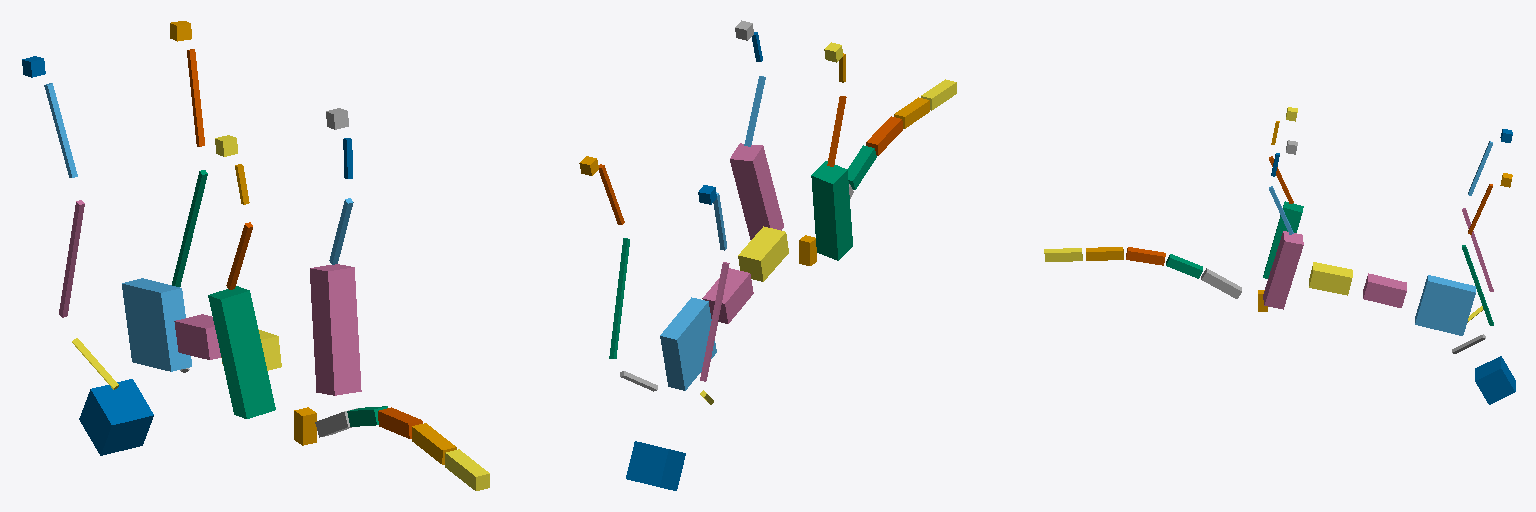
--- Facts derived from the render (not from the file) ---
3 views of the same robot in one strip: view 1: azimuth 30°, elevation 25°; view 2: azimuth 150°, elevation 25°; view 3: azimuth 270°, elevation 25° (orthographic).
Model Wolf_Skeleton with 76 links and 75 joints (75 revolute), rooted at base_link, posed all joints at 0.
Visible links, largest first — view 1: link_162_Oberschenkel_L_Y, link_167_Oberschenkel_R_Y, link_138_Brust_Y, link_139_Hals_Y, link_137_Bauch.001_Y, link_161_Schwanz.003_end_Y, link_148_Oberarm_L_Y, link_153_Oberarm_R_Y, link_160_Schwanz.003_Y, link_154_Unterarm_R_Y, link_149_Unterarm_L_Y, link_159_Schwanz.002_Y (+6 smaller); view 2: link_138_Brust_Y, link_167_Oberschenkel_R_Y, link_162_Oberschenkel_L_Y, link_139_Hals_Y, link_136_Bauch_Y, link_137_Bauch.001_Y, link_148_Oberarm_L_Y, link_153_Oberarm_R_Y, link_159_Schwanz.002_Y, link_158_Schwanz.001_Y, link_160_Schwanz.003_Y, link_161_Schwanz.003_end_Y; view 3: link_138_Brust_Y, link_162_Oberschenkel_L_Y, link_139_Hals_Y, link_137_Bauch.001_Y, link_136_Bauch_Y, link_167_Oberschenkel_R_Y, link_157_Schwanz_Y.
Link boxes in pixels (<box>): link_162_Oberschenkel_L_Y: <box>310,264,361,395</box>; link_167_Oberschenkel_R_Y: <box>208,286,275,418</box>; link_138_Brust_Y: <box>122,278,191,371</box>; link_139_Hals_Y: <box>79,379,153,455</box>; link_137_Bauch.001_Y: <box>174,314,220,359</box>; link_161_Schwanz.003_end_Y: <box>445,449,489,490</box>; link_148_Oberarm_L_Y: <box>172,170,207,286</box>; link_153_Oberarm_R_Y: <box>59,200,84,317</box>; link_160_Schwanz.003_Y: <box>412,423,456,464</box>; link_154_Unterarm_R_Y: <box>44,83,77,177</box>; link_149_Unterarm_L_Y: <box>187,49,204,146</box>; link_159_Schwanz.002_Y: <box>378,407,422,438</box>; link_138_Brust_Y: <box>660,297,716,390</box>; link_167_Oberschenkel_R_Y: <box>811,161,852,260</box>; link_162_Oberschenkel_L_Y: <box>730,143,783,239</box>; link_139_Hals_Y: <box>626,441,685,490</box>; link_136_Bauch_Y: <box>738,226,788,281</box>; link_137_Bauch.001_Y: <box>702,268,753,323</box>; link_148_Oberarm_L_Y: <box>609,238,629,358</box>; link_153_Oberarm_R_Y: <box>700,262,729,381</box>; link_159_Schwanz.002_Y: <box>866,116,902,155</box>; link_158_Schwanz.001_Y: <box>847,145,876,189</box>; link_160_Schwanz.003_Y: <box>894,97,929,128</box>; link_161_Schwanz.003_end_Y: <box>921,79,956,110</box>; link_138_Brust_Y: <box>1415,275,1475,335</box>; link_162_Oberschenkel_L_Y: <box>1263,231,1303,309</box>; link_139_Hals_Y: <box>1475,356,1515,404</box>; link_137_Bauch.001_Y: <box>1363,273,1406,307</box>; link_136_Bauch_Y: <box>1309,262,1352,295</box>; link_167_Oberschenkel_R_Y: <box>1263,201,1303,278</box>; link_157_Schwanz_Y: <box>1201,268,1241,298</box>.
Bounding box of the posed robot: 0.5763 × 2.35 × 1.51 m (x, y, z).
Geometry: primitives only (box / cylinder / sphere), no mesh files.

robot.urdf — Wolf_Skeleton:
<?xml version='1.0' encoding='UTF-8'?>
<robot name="Wolf_Skeleton">
  <link name="base_link">
    <inertial>
      <origin xyz="0.0 0.0 0.0" rpy="0.0 -0.0 0.0"/>
      <mass value="1.0"/>
      <inertia ixx="0.0" ixy="0.0" ixz="0.0" iyy="0.0" iyz="0.0" izz="0.0"/>
    </inertial>
    <visual>
      <geometry>
        <box size="0.05 0.05 0.1 "/>
      </geometry>
      <origin xyz="0.0 0.09264006279408932 0.0" rpy="0.0 0.0 0.0"/>
    </visual>
    <collision>
      <geometry>
        <box size="0.05 0.05 0.1 "/>
      </geometry>
      <origin xyz="0.0 0.09264006279408932 0.0" rpy="0.0 0.0 0.0"/>
    </collision>
  </link>
  <link name="link_136_Bauch_R">
    <inertial>
      <origin xyz="0.0 0.0 0.0" rpy="0.0 -0.0 0.0"/>
      <mass value="1.0"/>
      <inertia ixx="0.0" ixy="0.0" ixz="0.0" iyy="0.0" iyz="0.0" izz="0.0"/>
    </inertial>
    <collision name="collision">
      <geometry>
        <sphere radius="0.05"/>
      </geometry>
      <origin xyz="0.0 0.0 0.0" rpy="0.0 -0.0 0.0"/>
    </collision>
  </link>
  <link name="link_136_Bauch_P">
    <inertial>
      <origin xyz="0.0 0.0 0.0" rpy="0.0 -0.0 0.0"/>
      <mass value="1.0"/>
      <inertia ixx="0.0" ixy="0.0" ixz="0.0" iyy="0.0" iyz="0.0" izz="0.0"/>
    </inertial>
    <collision name="collision">
      <geometry>
        <sphere radius="0.05"/>
      </geometry>
      <origin xyz="0.0 0.0 0.0" rpy="0.0 -0.0 0.0"/>
    </collision>
  </link>
  <link name="link_136_Bauch_Y">
    <inertial>
      <origin xyz="0.0 0.0 0.0" rpy="0.0 -0.0 0.0"/>
      <mass value="1.0"/>
      <inertia ixx="0.0" ixy="0.0" ixz="0.0" iyy="0.0" iyz="0.0" izz="0.0"/>
    </inertial>
    <visual>
      <geometry>
        <box size="0.1 0.2 0.1"/>
      </geometry>
      <origin xyz="0.0 0.14605647996068002 0.25" rpy="0.0 0.0 0.0"/>
    </visual>
    <collision>
      <geometry>
        <box size="0.1 0.2 0.1"/>
      </geometry>
      <origin xyz="0.0 0.14605647996068002 0.25" rpy="0.0 0.0 0.0"/>
    </collision>
  </link>
  <link name="link_137_Bauch.001_R">
    <inertial>
      <origin xyz="0.0 0.0 0.0" rpy="0.0 -0.0 0.0"/>
      <mass value="1.0"/>
      <inertia ixx="0.0" ixy="0.0" ixz="0.0" iyy="0.0" iyz="0.0" izz="0.0"/>
    </inertial>
    <collision name="collision">
      <geometry>
        <sphere radius="0.05"/>
      </geometry>
      <origin xyz="0.0 0.0 0.0" rpy="0.0 -0.0 0.0"/>
    </collision>
  </link>
  <link name="link_137_Bauch.001_P">
    <inertial>
      <origin xyz="0.0 0.0 0.0" rpy="0.0 -0.0 0.0"/>
      <mass value="1.0"/>
      <inertia ixx="0.0" ixy="0.0" ixz="0.0" iyy="0.0" iyz="0.0" izz="0.0"/>
    </inertial>
    <collision name="collision">
      <geometry>
        <sphere radius="0.05"/>
      </geometry>
      <origin xyz="0.0 0.0 0.0" rpy="0.0 -0.0 0.0"/>
    </collision>
  </link>
  <link name="link_137_Bauch.001_Y">
    <inertial>
      <origin xyz="0.0 0.0 0.0" rpy="0.0 -0.0 0.0"/>
      <mass value="1.0"/>
      <inertia ixx="0.0" ixy="0.0" ixz="0.0" iyy="0.0" iyz="0.0" izz="0.0"/>
    </inertial>
    <visual>
      <geometry>
        <box size="0.1 0.2 0.1"/>
      </geometry>
      <origin xyz="0.0 0.14442766159772874 0.25" rpy="0.0 0.0 0.0"/>
    </visual>
    <collision>
      <geometry>
        <box size="0.1 0.2 0.1"/>
      </geometry>
      <origin xyz="0.0 0.14442766159772874 0.25" rpy="0.0 0.0 0.0"/>
    </collision>
  </link>
  <link name="link_138_Brust_R">
    <inertial>
      <origin xyz="0.0 0.0 0.0" rpy="0.0 -0.0 0.0"/>
      <mass value="1.0"/>
      <inertia ixx="0.0" ixy="0.0" ixz="0.0" iyy="0.0" iyz="0.0" izz="0.0"/>
    </inertial>
    <collision name="collision">
      <geometry>
        <sphere radius="0.05"/>
      </geometry>
      <origin xyz="0.0 0.0 0.0" rpy="0.0 -0.0 0.0"/>
    </collision>
  </link>
  <link name="link_138_Brust_P">
    <inertial>
      <origin xyz="0.0 0.0 0.0" rpy="0.0 -0.0 0.0"/>
      <mass value="1.0"/>
      <inertia ixx="0.0" ixy="0.0" ixz="0.0" iyy="0.0" iyz="0.0" izz="0.0"/>
    </inertial>
    <collision name="collision">
      <geometry>
        <sphere radius="0.05"/>
      </geometry>
      <origin xyz="0.0 0.0 0.0" rpy="0.0 -0.0 0.0"/>
    </collision>
  </link>
  <link name="link_138_Brust_Y">
    <inertial>
      <origin xyz="0.0 0.0 0.0" rpy="0.0 -0.0 0.0"/>
      <mass value="1.0"/>
      <inertia ixx="0.0" ixy="0.0" ixz="0.0" iyy="0.0" iyz="0.0" izz="0.0"/>
    </inertial>
    <visual>
      <geometry>
        <box size="0.075 0.25  0.25 "/>
      </geometry>
      <origin xyz="0.0 0.18977209478616713 0.25" rpy="0.0 0.0 0.0"/>
    </visual>
    <collision>
      <geometry>
        <box size="0.075 0.25  0.25 "/>
      </geometry>
      <origin xyz="0.0 0.18977209478616713 0.25" rpy="0.0 0.0 0.0"/>
    </collision>
  </link>
  <link name="link_139_Hals_R">
    <inertial>
      <origin xyz="0.0 0.0 0.0" rpy="0.0 -0.0 0.0"/>
      <mass value="1.0"/>
      <inertia ixx="0.0" ixy="0.0" ixz="0.0" iyy="0.0" iyz="0.0" izz="0.0"/>
    </inertial>
    <collision name="collision">
      <geometry>
        <sphere radius="0.05"/>
      </geometry>
      <origin xyz="0.0 0.0 0.0" rpy="0.0 -0.0 0.0"/>
    </collision>
  </link>
  <link name="link_139_Hals_P">
    <inertial>
      <origin xyz="0.0 0.0 0.0" rpy="0.0 -0.0 0.0"/>
      <mass value="1.0"/>
      <inertia ixx="0.0" ixy="0.0" ixz="0.0" iyy="0.0" iyz="0.0" izz="0.0"/>
    </inertial>
    <collision name="collision">
      <geometry>
        <sphere radius="0.05"/>
      </geometry>
      <origin xyz="0.0 0.0 0.0" rpy="0.0 -0.0 0.0"/>
    </collision>
  </link>
  <link name="link_139_Hals_Y">
    <inertial>
      <origin xyz="0.0 0.0 0.0" rpy="0.0 -0.0 0.0"/>
      <mass value="1.0"/>
      <inertia ixx="0.0" ixy="0.0" ixz="0.0" iyy="0.0" iyz="0.0" izz="0.0"/>
    </inertial>
    <visual>
      <geometry>
        <box size="0.15 0.15 0.15"/>
      </geometry>
      <origin xyz="0.0 0.325 0.0" rpy="0.0 0.0 0.0"/>
    </visual>
    <collision>
      <geometry>
        <box size="0.15 0.15 0.15"/>
      </geometry>
      <origin xyz="0.0 0.325 0.0" rpy="0.0 0.0 0.0"/>
    </collision>
  </link>
  <link name="link_147_Schalterplatte_L_R">
    <inertial>
      <origin xyz="0.0 0.0 0.0" rpy="0.0 -0.0 0.0"/>
      <mass value="1.0"/>
      <inertia ixx="0.0" ixy="0.0" ixz="0.0" iyy="0.0" iyz="0.0" izz="0.0"/>
    </inertial>
    <collision name="collision">
      <geometry>
        <sphere radius="0.05"/>
      </geometry>
      <origin xyz="0.0 0.0 0.0" rpy="0.0 -0.0 0.0"/>
    </collision>
  </link>
  <link name="link_147_Schalterplatte_L_P">
    <inertial>
      <origin xyz="0.0 0.0 0.0" rpy="0.0 -0.0 0.0"/>
      <mass value="1.0"/>
      <inertia ixx="0.0" ixy="0.0" ixz="0.0" iyy="0.0" iyz="0.0" izz="0.0"/>
    </inertial>
    <collision name="collision">
      <geometry>
        <sphere radius="0.05"/>
      </geometry>
      <origin xyz="0.0 0.0 0.0" rpy="0.0 -0.0 0.0"/>
    </collision>
  </link>
  <link name="link_147_Schalterplatte_L_Y">
    <inertial>
      <origin xyz="0.0 0.0 0.0" rpy="0.0 -0.0 0.0"/>
      <mass value="1.0"/>
      <inertia ixx="0.0" ixy="0.0" ixz="0.0" iyy="0.0" iyz="0.0" izz="0.0"/>
    </inertial>
    <visual>
      <geometry>
        <box size="0.02 0.2  0.02"/>
      </geometry>
      <origin xyz="0.0 0.19151573851704598 0.0" rpy="0.0 0.0 0.0"/>
    </visual>
    <collision>
      <geometry>
        <box size="0.02 0.2  0.02"/>
      </geometry>
      <origin xyz="0.0 0.19151573851704598 0.0" rpy="0.0 0.0 0.0"/>
    </collision>
  </link>
  <link name="link_148_Oberarm_L_R">
    <inertial>
      <origin xyz="0.0 0.0 0.0" rpy="0.0 -0.0 0.0"/>
      <mass value="1.0"/>
      <inertia ixx="0.0" ixy="0.0" ixz="0.0" iyy="0.0" iyz="0.0" izz="0.0"/>
    </inertial>
    <collision name="collision">
      <geometry>
        <sphere radius="0.05"/>
      </geometry>
      <origin xyz="0.0 0.0 0.0" rpy="0.0 -0.0 0.0"/>
    </collision>
  </link>
  <link name="link_148_Oberarm_L_P">
    <inertial>
      <origin xyz="0.0 0.0 0.0" rpy="0.0 -0.0 0.0"/>
      <mass value="1.0"/>
      <inertia ixx="0.0" ixy="0.0" ixz="0.0" iyy="0.0" iyz="0.0" izz="0.0"/>
    </inertial>
    <collision name="collision">
      <geometry>
        <sphere radius="0.05"/>
      </geometry>
      <origin xyz="0.0 0.0 0.0" rpy="0.0 -0.0 0.0"/>
    </collision>
  </link>
  <link name="link_148_Oberarm_L_Y">
    <inertial>
      <origin xyz="0.0 0.0 0.0" rpy="0.0 -0.0 0.0"/>
      <mass value="1.0"/>
      <inertia ixx="0.0" ixy="0.0" ixz="0.0" iyy="0.0" iyz="0.0" izz="0.0"/>
    </inertial>
    <visual>
      <geometry>
        <box size="0.02     0.4664934 0.02    "/>
      </geometry>
      <origin xyz="0.0 0.27381134927272793 0.0" rpy="0.0 0.0 0.0"/>
    </visual>
    <collision>
      <geometry>
        <box size="0.02     0.4664934 0.02    "/>
      </geometry>
      <origin xyz="0.0 0.27381134927272793 0.0" rpy="0.0 0.0 0.0"/>
    </collision>
  </link>
  <link name="link_149_Unterarm_L_R">
    <inertial>
      <origin xyz="0.0 0.0 0.0" rpy="0.0 -0.0 0.0"/>
      <mass value="1.0"/>
      <inertia ixx="0.0" ixy="0.0" ixz="0.0" iyy="0.0" iyz="0.0" izz="0.0"/>
    </inertial>
    <collision name="collision">
      <geometry>
        <sphere radius="0.05"/>
      </geometry>
      <origin xyz="0.0 0.0 0.0" rpy="0.0 -0.0 0.0"/>
    </collision>
  </link>
  <link name="link_149_Unterarm_L_P">
    <inertial>
      <origin xyz="0.0 0.0 0.0" rpy="0.0 -0.0 0.0"/>
      <mass value="1.0"/>
      <inertia ixx="0.0" ixy="0.0" ixz="0.0" iyy="0.0" iyz="0.0" izz="0.0"/>
    </inertial>
    <collision name="collision">
      <geometry>
        <sphere radius="0.05"/>
      </geometry>
      <origin xyz="0.0 0.0 0.0" rpy="0.0 -0.0 0.0"/>
    </collision>
  </link>
  <link name="link_149_Unterarm_L_Y">
    <inertial>
      <origin xyz="0.0 0.0 0.0" rpy="0.0 -0.0 0.0"/>
      <mass value="1.0"/>
      <inertia ixx="0.0" ixy="0.0" ixz="0.0" iyy="0.0" iyz="0.0" izz="0.0"/>
    </inertial>
    <visual>
      <geometry>
        <box size="0.02 0.3   0.02"/>
      </geometry>
      <origin xyz="0.0 0.23030291497707367 0.0" rpy="0.0 0.0 0.0"/>
    </visual>
    <collision>
      <geometry>
        <box size="0.02 0.3   0.02"/>
      </geometry>
      <origin xyz="0.0 0.23030291497707367 0.0" rpy="0.0 0.0 0.0"/>
    </collision>
  </link>
  <link name="link_150_Vorderpfote_L_R">
    <inertial>
      <origin xyz="0.0 0.0 0.0" rpy="0.0 -0.0 0.0"/>
      <mass value="1.0"/>
      <inertia ixx="0.0" ixy="0.0" ixz="0.0" iyy="0.0" iyz="0.0" izz="0.0"/>
    </inertial>
    <collision name="collision">
      <geometry>
        <sphere radius="0.05"/>
      </geometry>
      <origin xyz="0.0 0.0 0.0" rpy="0.0 -0.0 0.0"/>
    </collision>
  </link>
  <link name="link_150_Vorderpfote_L_P">
    <inertial>
      <origin xyz="0.0 0.0 0.0" rpy="0.0 -0.0 0.0"/>
      <mass value="1.0"/>
      <inertia ixx="0.0" ixy="0.0" ixz="0.0" iyy="0.0" iyz="0.0" izz="0.0"/>
    </inertial>
    <collision name="collision">
      <geometry>
        <sphere radius="0.05"/>
      </geometry>
      <origin xyz="0.0 0.0 0.0" rpy="0.0 -0.0 0.0"/>
    </collision>
  </link>
  <link name="link_150_Vorderpfote_L_Y">
    <inertial>
      <origin xyz="0.0 0.0 0.0" rpy="0.0 -0.0 0.0"/>
      <mass value="1.0"/>
      <inertia ixx="0.0" ixy="0.0" ixz="0.0" iyy="0.0" iyz="0.0" izz="0.0"/>
    </inertial>
    <visual>
      <geometry>
        <box size="0.05 0.05  0.05 "/>
      </geometry>
      <origin xyz="0.0 0.06079862918704748 0.0" rpy="0.0 0.0 0.0"/>
    </visual>
    <collision>
      <geometry>
        <box size="0.05 0.05  0.05 "/>
      </geometry>
      <origin xyz="0.0 0.06079862918704748 0.0" rpy="0.0 0.0 0.0"/>
    </collision>
  </link>
  <link name="link_152_Schalterplatte_R_R">
    <inertial>
      <origin xyz="0.0 0.0 0.0" rpy="0.0 -0.0 0.0"/>
      <mass value="1.0"/>
      <inertia ixx="0.0" ixy="0.0" ixz="0.0" iyy="0.0" iyz="0.0" izz="0.0"/>
    </inertial>
    <collision name="collision">
      <geometry>
        <sphere radius="0.05"/>
      </geometry>
      <origin xyz="0.0 0.0 0.0" rpy="0.0 -0.0 0.0"/>
    </collision>
  </link>
  <link name="link_152_Schalterplatte_R_P">
    <inertial>
      <origin xyz="0.0 0.0 0.0" rpy="0.0 -0.0 0.0"/>
      <mass value="1.0"/>
      <inertia ixx="0.0" ixy="0.0" ixz="0.0" iyy="0.0" iyz="0.0" izz="0.0"/>
    </inertial>
    <collision name="collision">
      <geometry>
        <sphere radius="0.05"/>
      </geometry>
      <origin xyz="0.0 0.0 0.0" rpy="0.0 -0.0 0.0"/>
    </collision>
  </link>
  <link name="link_152_Schalterplatte_R_Y">
    <inertial>
      <origin xyz="0.0 0.0 0.0" rpy="0.0 -0.0 0.0"/>
      <mass value="1.0"/>
      <inertia ixx="0.0" ixy="0.0" ixz="0.0" iyy="0.0" iyz="0.0" izz="0.0"/>
    </inertial>
    <visual>
      <geometry>
        <box size="0.02 0.2  0.02"/>
      </geometry>
      <origin xyz="0.0 0.19151571840047837 0.0" rpy="0.0 0.0 0.0"/>
    </visual>
    <collision>
      <geometry>
        <box size="0.02 0.2  0.02"/>
      </geometry>
      <origin xyz="0.0 0.19151571840047837 0.0" rpy="0.0 0.0 0.0"/>
    </collision>
  </link>
  <link name="link_153_Oberarm_R_R">
    <inertial>
      <origin xyz="0.0 0.0 0.0" rpy="0.0 -0.0 0.0"/>
      <mass value="1.0"/>
      <inertia ixx="0.0" ixy="0.0" ixz="0.0" iyy="0.0" iyz="0.0" izz="0.0"/>
    </inertial>
    <collision name="collision">
      <geometry>
        <sphere radius="0.05"/>
      </geometry>
      <origin xyz="0.0 0.0 0.0" rpy="0.0 -0.0 0.0"/>
    </collision>
  </link>
  <link name="link_153_Oberarm_R_P">
    <inertial>
      <origin xyz="0.0 0.0 0.0" rpy="0.0 -0.0 0.0"/>
      <mass value="1.0"/>
      <inertia ixx="0.0" ixy="0.0" ixz="0.0" iyy="0.0" iyz="0.0" izz="0.0"/>
    </inertial>
    <collision name="collision">
      <geometry>
        <sphere radius="0.05"/>
      </geometry>
      <origin xyz="0.0 0.0 0.0" rpy="0.0 -0.0 0.0"/>
    </collision>
  </link>
  <link name="link_153_Oberarm_R_Y">
    <inertial>
      <origin xyz="0.0 0.0 0.0" rpy="0.0 -0.0 0.0"/>
      <mass value="1.0"/>
      <inertia ixx="0.0" ixy="0.0" ixz="0.0" iyy="0.0" iyz="0.0" izz="0.0"/>
    </inertial>
    <visual>
      <geometry>
        <box size="0.02     0.4664934 0.02    "/>
      </geometry>
      <origin xyz="0.0 0.2738114699721336 0.0" rpy="0.0 0.0 0.0"/>
    </visual>
    <collision>
      <geometry>
        <box size="0.02     0.4664934 0.02    "/>
      </geometry>
      <origin xyz="0.0 0.2738114699721336 0.0" rpy="0.0 0.0 0.0"/>
    </collision>
  </link>
  <link name="link_154_Unterarm_R_R">
    <inertial>
      <origin xyz="0.0 0.0 0.0" rpy="0.0 -0.0 0.0"/>
      <mass value="1.0"/>
      <inertia ixx="0.0" ixy="0.0" ixz="0.0" iyy="0.0" iyz="0.0" izz="0.0"/>
    </inertial>
    <collision name="collision">
      <geometry>
        <sphere radius="0.05"/>
      </geometry>
      <origin xyz="0.0 0.0 0.0" rpy="0.0 -0.0 0.0"/>
    </collision>
  </link>
  <link name="link_154_Unterarm_R_P">
    <inertial>
      <origin xyz="0.0 0.0 0.0" rpy="0.0 -0.0 0.0"/>
      <mass value="1.0"/>
      <inertia ixx="0.0" ixy="0.0" ixz="0.0" iyy="0.0" iyz="0.0" izz="0.0"/>
    </inertial>
    <collision name="collision">
      <geometry>
        <sphere radius="0.05"/>
      </geometry>
      <origin xyz="0.0 0.0 0.0" rpy="0.0 -0.0 0.0"/>
    </collision>
  </link>
  <link name="link_154_Unterarm_R_Y">
    <inertial>
      <origin xyz="0.0 0.0 0.0" rpy="0.0 -0.0 0.0"/>
      <mass value="1.0"/>
      <inertia ixx="0.0" ixy="0.0" ixz="0.0" iyy="0.0" iyz="0.0" izz="0.0"/>
    </inertial>
    <visual>
      <geometry>
        <box size="0.02 0.3   0.02"/>
      </geometry>
      <origin xyz="0.0 0.23030166774988176 0.0" rpy="0.0 0.0 0.0"/>
    </visual>
    <collision>
      <geometry>
        <box size="0.02 0.3   0.02"/>
      </geometry>
      <origin xyz="0.0 0.23030166774988176 0.0" rpy="0.0 0.0 0.0"/>
    </collision>
  </link>
  <link name="link_155_Vorderpfote_R_R">
    <inertial>
      <origin xyz="0.0 0.0 0.0" rpy="0.0 -0.0 0.0"/>
      <mass value="1.0"/>
      <inertia ixx="0.0" ixy="0.0" ixz="0.0" iyy="0.0" iyz="0.0" izz="0.0"/>
    </inertial>
    <collision name="collision">
      <geometry>
        <sphere radius="0.05"/>
      </geometry>
      <origin xyz="0.0 0.0 0.0" rpy="0.0 -0.0 0.0"/>
    </collision>
  </link>
  <link name="link_155_Vorderpfote_R_P">
    <inertial>
      <origin xyz="0.0 0.0 0.0" rpy="0.0 -0.0 0.0"/>
      <mass value="1.0"/>
      <inertia ixx="0.0" ixy="0.0" ixz="0.0" iyy="0.0" iyz="0.0" izz="0.0"/>
    </inertial>
    <collision name="collision">
      <geometry>
        <sphere radius="0.05"/>
      </geometry>
      <origin xyz="0.0 0.0 0.0" rpy="0.0 -0.0 0.0"/>
    </collision>
  </link>
  <link name="link_155_Vorderpfote_R_Y">
    <inertial>
      <origin xyz="0.0 0.0 0.0" rpy="0.0 -0.0 0.0"/>
      <mass value="1.0"/>
      <inertia ixx="0.0" ixy="0.0" ixz="0.0" iyy="0.0" iyz="0.0" izz="0.0"/>
    </inertial>
    <visual>
      <geometry>
        <box size="0.05 0.05  0.05 "/>
      </geometry>
      <origin xyz="0.0 0.060800012201070786 0.0" rpy="0.0 0.0 0.0"/>
    </visual>
    <collision>
      <geometry>
        <box size="0.05 0.05  0.05 "/>
      </geometry>
      <origin xyz="0.0 0.060800012201070786 0.0" rpy="0.0 0.0 0.0"/>
    </collision>
  </link>
  <link name="link_157_Schwanz_R">
    <inertial>
      <origin xyz="0.0 0.0 0.0" rpy="0.0 -0.0 0.0"/>
      <mass value="1.0"/>
      <inertia ixx="0.0" ixy="0.0" ixz="0.0" iyy="0.0" iyz="0.0" izz="0.0"/>
    </inertial>
    <collision name="collision">
      <geometry>
        <sphere radius="0.05"/>
      </geometry>
      <origin xyz="0.0 0.0 0.0" rpy="0.0 -0.0 0.0"/>
    </collision>
  </link>
  <link name="link_157_Schwanz_P">
    <inertial>
      <origin xyz="0.0 0.0 0.0" rpy="0.0 -0.0 0.0"/>
      <mass value="1.0"/>
      <inertia ixx="0.0" ixy="0.0" ixz="0.0" iyy="0.0" iyz="0.0" izz="0.0"/>
    </inertial>
    <collision name="collision">
      <geometry>
        <sphere radius="0.05"/>
      </geometry>
      <origin xyz="0.0 0.0 0.0" rpy="0.0 -0.0 0.0"/>
    </collision>
  </link>
  <link name="link_157_Schwanz_Y">
    <inertial>
      <origin xyz="0.0 0.0 0.0" rpy="0.0 -0.0 0.0"/>
      <mass value="1.0"/>
      <inertia ixx="0.0" ixy="0.0" ixz="0.0" iyy="0.0" iyz="0.0" izz="0.0"/>
    </inertial>
    <visual>
      <geometry>
        <box size="0.05       0.20939873 0.05      "/>
      </geometry>
      <origin xyz="0.0 0.1229079432785511 0.0" rpy="0.0 0.0 0.0"/>
    </visual>
    <collision>
      <geometry>
        <box size="0.05       0.20939873 0.05      "/>
      </geometry>
      <origin xyz="0.0 0.1229079432785511 0.0" rpy="0.0 0.0 0.0"/>
    </collision>
  </link>
  <link name="link_158_Schwanz.001_R">
    <inertial>
      <origin xyz="0.0 0.0 0.0" rpy="0.0 -0.0 0.0"/>
      <mass value="1.0"/>
      <inertia ixx="0.0" ixy="0.0" ixz="0.0" iyy="0.0" iyz="0.0" izz="0.0"/>
    </inertial>
    <collision name="collision">
      <geometry>
        <sphere radius="0.05"/>
      </geometry>
      <origin xyz="0.0 0.0 0.0" rpy="0.0 -0.0 0.0"/>
    </collision>
  </link>
  <link name="link_158_Schwanz.001_P">
    <inertial>
      <origin xyz="0.0 0.0 0.0" rpy="0.0 -0.0 0.0"/>
      <mass value="1.0"/>
      <inertia ixx="0.0" ixy="0.0" ixz="0.0" iyy="0.0" iyz="0.0" izz="0.0"/>
    </inertial>
    <collision name="collision">
      <geometry>
        <sphere radius="0.05"/>
      </geometry>
      <origin xyz="0.0 0.0 0.0" rpy="0.0 -0.0 0.0"/>
    </collision>
  </link>
  <link name="link_158_Schwanz.001_Y">
    <inertial>
      <origin xyz="0.0 0.0 0.0" rpy="0.0 -0.0 0.0"/>
      <mass value="1.0"/>
      <inertia ixx="0.0" ixy="0.0" ixz="0.0" iyy="0.0" iyz="0.0" izz="0.0"/>
    </inertial>
    <visual>
      <geometry>
        <box size="0.05       0.18068102 0.05      "/>
      </geometry>
      <origin xyz="0.0 0.1060519091784954 0.0" rpy="0.0 0.0 0.0"/>
    </visual>
    <collision>
      <geometry>
        <box size="0.05       0.18068102 0.05      "/>
      </geometry>
      <origin xyz="0.0 0.1060519091784954 0.0" rpy="0.0 0.0 0.0"/>
    </collision>
  </link>
  <link name="link_159_Schwanz.002_R">
    <inertial>
      <origin xyz="0.0 0.0 0.0" rpy="0.0 -0.0 0.0"/>
      <mass value="1.0"/>
      <inertia ixx="0.0" ixy="0.0" ixz="0.0" iyy="0.0" iyz="0.0" izz="0.0"/>
    </inertial>
    <collision name="collision">
      <geometry>
        <sphere radius="0.05"/>
      </geometry>
      <origin xyz="0.0 0.0 0.0" rpy="0.0 -0.0 0.0"/>
    </collision>
  </link>
  <link name="link_159_Schwanz.002_P">
    <inertial>
      <origin xyz="0.0 0.0 0.0" rpy="0.0 -0.0 0.0"/>
      <mass value="1.0"/>
      <inertia ixx="0.0" ixy="0.0" ixz="0.0" iyy="0.0" iyz="0.0" izz="0.0"/>
    </inertial>
    <collision name="collision">
      <geometry>
        <sphere radius="0.05"/>
      </geometry>
      <origin xyz="0.0 0.0 0.0" rpy="0.0 -0.0 0.0"/>
    </collision>
  </link>
  <link name="link_159_Schwanz.002_Y">
    <inertial>
      <origin xyz="0.0 0.0 0.0" rpy="0.0 -0.0 0.0"/>
      <mass value="1.0"/>
      <inertia ixx="0.0" ixy="0.0" ixz="0.0" iyy="0.0" iyz="0.0" izz="0.0"/>
    </inertial>
    <visual>
      <geometry>
        <box size="0.05       0.19205777 0.05      "/>
      </geometry>
      <origin xyz="0.0 0.11272956356406212 0.0" rpy="0.0 0.0 0.0"/>
    </visual>
    <collision>
      <geometry>
        <box size="0.05       0.19205777 0.05      "/>
      </geometry>
      <origin xyz="0.0 0.11272956356406212 0.0" rpy="0.0 0.0 0.0"/>
    </collision>
  </link>
  <link name="link_160_Schwanz.003_R">
    <inertial>
      <origin xyz="0.0 0.0 0.0" rpy="0.0 -0.0 0.0"/>
      <mass value="1.0"/>
      <inertia ixx="0.0" ixy="0.0" ixz="0.0" iyy="0.0" iyz="0.0" izz="0.0"/>
    </inertial>
    <collision name="collision">
      <geometry>
        <sphere radius="0.05"/>
      </geometry>
      <origin xyz="0.0 0.0 0.0" rpy="0.0 -0.0 0.0"/>
    </collision>
  </link>
  <link name="link_160_Schwanz.003_P">
    <inertial>
      <origin xyz="0.0 0.0 0.0" rpy="0.0 -0.0 0.0"/>
      <mass value="1.0"/>
      <inertia ixx="0.0" ixy="0.0" ixz="0.0" iyy="0.0" iyz="0.0" izz="0.0"/>
    </inertial>
    <collision name="collision">
      <geometry>
        <sphere radius="0.05"/>
      </geometry>
      <origin xyz="0.0 0.0 0.0" rpy="0.0 -0.0 0.0"/>
    </collision>
  </link>
  <link name="link_160_Schwanz.003_Y">
    <inertial>
      <origin xyz="0.0 0.0 0.0" rpy="0.0 -0.0 0.0"/>
      <mass value="1.0"/>
      <inertia ixx="0.0" ixy="0.0" ixz="0.0" iyy="0.0" iyz="0.0" izz="0.0"/>
    </inertial>
    <visual>
      <geometry>
        <box size="0.05       0.18915927 0.05      "/>
      </geometry>
      <origin xyz="0.0 0.1110282652080059 0.0" rpy="0.0 0.0 0.0"/>
    </visual>
    <collision>
      <geometry>
        <box size="0.05       0.18915927 0.05      "/>
      </geometry>
      <origin xyz="0.0 0.1110282652080059 0.0" rpy="0.0 0.0 0.0"/>
    </collision>
  </link>
  <link name="link_161_Schwanz.003_end_R">
    <inertial>
      <origin xyz="0.0 0.0 0.0" rpy="0.0 -0.0 0.0"/>
      <mass value="1.0"/>
      <inertia ixx="0.0" ixy="0.0" ixz="0.0" iyy="0.0" iyz="0.0" izz="0.0"/>
    </inertial>
    <collision name="collision">
      <geometry>
        <sphere radius="0.05"/>
      </geometry>
      <origin xyz="0.0 0.0 0.0" rpy="0.0 -0.0 0.0"/>
    </collision>
  </link>
  <link name="link_161_Schwanz.003_end_P">
    <inertial>
      <origin xyz="0.0 0.0 0.0" rpy="0.0 -0.0 0.0"/>
      <mass value="1.0"/>
      <inertia ixx="0.0" ixy="0.0" ixz="0.0" iyy="0.0" iyz="0.0" izz="0.0"/>
    </inertial>
    <collision name="collision">
      <geometry>
        <sphere radius="0.05"/>
      </geometry>
      <origin xyz="0.0 0.0 0.0" rpy="0.0 -0.0 0.0"/>
    </collision>
  </link>
  <link name="link_161_Schwanz.003_end_Y">
    <inertial>
      <origin xyz="0.0 0.0 0.0" rpy="0.0 -0.0 0.0"/>
      <mass value="1.0"/>
      <inertia ixx="0.0" ixy="0.0" ixz="0.0" iyy="0.0" iyz="0.0" izz="0.0"/>
    </inertial>
    <visual>
      <geometry>
        <box size="0.05      0.1891589 0.05     "/>
      </geometry>
      <origin xyz="0.0 0.11102805398404597 0.0" rpy="0.0 0.0 0.0"/>
    </visual>
    <collision>
      <geometry>
        <box size="0.05      0.1891589 0.05     "/>
      </geometry>
      <origin xyz="0.0 0.11102805398404597 0.0" rpy="0.0 0.0 0.0"/>
    </collision>
  </link>
  <link name="link_162_Oberschenkel_L_R">
    <inertial>
      <origin xyz="0.0 0.0 0.0" rpy="0.0 -0.0 0.0"/>
      <mass value="1.0"/>
      <inertia ixx="0.0" ixy="0.0" ixz="0.0" iyy="0.0" iyz="0.0" izz="0.0"/>
    </inertial>
    <collision name="collision">
      <geometry>
        <sphere radius="0.05"/>
      </geometry>
      <origin xyz="0.0 0.0 0.0" rpy="0.0 -0.0 0.0"/>
    </collision>
  </link>
  <link name="link_162_Oberschenkel_L_P">
    <inertial>
      <origin xyz="0.0 0.0 0.0" rpy="0.0 -0.0 0.0"/>
      <mass value="1.0"/>
      <inertia ixx="0.0" ixy="0.0" ixz="0.0" iyy="0.0" iyz="0.0" izz="0.0"/>
    </inertial>
    <collision name="collision">
      <geometry>
        <sphere radius="0.05"/>
      </geometry>
      <origin xyz="0.0 0.0 0.0" rpy="0.0 -0.0 0.0"/>
    </collision>
  </link>
  <link name="link_162_Oberschenkel_L_Y">
    <inertial>
      <origin xyz="0.0 0.0 0.0" rpy="0.0 -0.0 0.0"/>
      <mass value="1.0"/>
      <inertia ixx="0.0" ixy="0.0" ixz="0.0" iyy="0.0" iyz="0.0" izz="0.0"/>
    </inertial>
    <visual>
      <geometry>
        <box size="0.1        0.38788143 0.1       "/>
      </geometry>
      <origin xyz="0.0 0.2276695355772972 0.0" rpy="0.0 0.0 0.0"/>
    </visual>
    <collision>
      <geometry>
        <box size="0.1        0.38788143 0.1       "/>
      </geometry>
      <origin xyz="0.0 0.2276695355772972 0.0" rpy="0.0 0.0 0.0"/>
    </collision>
  </link>
  <link name="link_163_Unterschenkel_L_R">
    <inertial>
      <origin xyz="0.0 0.0 0.0" rpy="0.0 -0.0 0.0"/>
      <mass value="1.0"/>
      <inertia ixx="0.0" ixy="0.0" ixz="0.0" iyy="0.0" iyz="0.0" izz="0.0"/>
    </inertial>
    <collision name="collision">
      <geometry>
        <sphere radius="0.05"/>
      </geometry>
      <origin xyz="0.0 0.0 0.0" rpy="0.0 -0.0 0.0"/>
    </collision>
  </link>
  <link name="link_163_Unterschenkel_L_P">
    <inertial>
      <origin xyz="0.0 0.0 0.0" rpy="0.0 -0.0 0.0"/>
      <mass value="1.0"/>
      <inertia ixx="0.0" ixy="0.0" ixz="0.0" iyy="0.0" iyz="0.0" izz="0.0"/>
    </inertial>
    <collision name="collision">
      <geometry>
        <sphere radius="0.05"/>
      </geometry>
      <origin xyz="0.0 0.0 0.0" rpy="0.0 -0.0 0.0"/>
    </collision>
  </link>
  <link name="link_163_Unterschenkel_L_Y">
    <inertial>
      <origin xyz="0.0 0.0 0.0" rpy="0.0 -0.0 0.0"/>
      <mass value="1.0"/>
      <inertia ixx="0.0" ixy="0.0" ixz="0.0" iyy="0.0" iyz="0.0" izz="0.0"/>
    </inertial>
    <visual>
      <geometry>
        <box size="0.02       0.2739076 0.02      "/>
      </geometry>
      <origin xyz="0.0 0.1607718497514725 0.0" rpy="0.0 0.0 0.0"/>
    </visual>
    <collision>
      <geometry>
        <box size="0.02       0.2739076 0.02      "/>
      </geometry>
      <origin xyz="0.0 0.1607718497514725 0.0" rpy="0.0 0.0 0.0"/>
    </collision>
  </link>
  <link name="link_164_Pfote1_L_R">
    <inertial>
      <origin xyz="0.0 0.0 0.0" rpy="0.0 -0.0 0.0"/>
      <mass value="1.0"/>
      <inertia ixx="0.0" ixy="0.0" ixz="0.0" iyy="0.0" iyz="0.0" izz="0.0"/>
    </inertial>
    <collision name="collision">
      <geometry>
        <sphere radius="0.05"/>
      </geometry>
      <origin xyz="0.0 0.0 0.0" rpy="0.0 -0.0 0.0"/>
    </collision>
  </link>
  <link name="link_164_Pfote1_L_P">
    <inertial>
      <origin xyz="0.0 0.0 0.0" rpy="0.0 -0.0 0.0"/>
      <mass value="1.0"/>
      <inertia ixx="0.0" ixy="0.0" ixz="0.0" iyy="0.0" iyz="0.0" izz="0.0"/>
    </inertial>
    <collision name="collision">
      <geometry>
        <sphere radius="0.05"/>
      </geometry>
      <origin xyz="0.0 0.0 0.0" rpy="0.0 -0.0 0.0"/>
    </collision>
  </link>
  <link name="link_164_Pfote1_L_Y">
    <inertial>
      <origin xyz="0.0 0.0 0.0" rpy="0.0 -0.0 0.0"/>
      <mass value="1.0"/>
      <inertia ixx="0.0" ixy="0.0" ixz="0.0" iyy="0.0" iyz="0.0" izz="0.0"/>
    </inertial>
    <visual>
      <geometry>
        <box size="0.02   0.125 0.02  "/>
      </geometry>
      <origin xyz="0.0 0.1333294115960598 0.0" rpy="0.0 0.0 0.0"/>
    </visual>
    <collision>
      <geometry>
        <box size="0.02   0.125 0.02  "/>
      </geometry>
      <origin xyz="0.0 0.1333294115960598 0.0" rpy="0.0 0.0 0.0"/>
    </collision>
  </link>
  <link name="link_165_Pfote2_L_R">
    <inertial>
      <origin xyz="0.0 0.0 0.0" rpy="0.0 -0.0 0.0"/>
      <mass value="1.0"/>
      <inertia ixx="0.0" ixy="0.0" ixz="0.0" iyy="0.0" iyz="0.0" izz="0.0"/>
    </inertial>
    <collision name="collision">
      <geometry>
        <sphere radius="0.05"/>
      </geometry>
      <origin xyz="0.0 0.0 0.0" rpy="0.0 -0.0 0.0"/>
    </collision>
  </link>
  <link name="link_165_Pfote2_L_P">
    <inertial>
      <origin xyz="0.0 0.0 0.0" rpy="0.0 -0.0 0.0"/>
      <mass value="1.0"/>
      <inertia ixx="0.0" ixy="0.0" ixz="0.0" iyy="0.0" iyz="0.0" izz="0.0"/>
    </inertial>
    <collision name="collision">
      <geometry>
        <sphere radius="0.05"/>
      </geometry>
      <origin xyz="0.0 0.0 0.0" rpy="0.0 -0.0 0.0"/>
    </collision>
  </link>
  <link name="link_165_Pfote2_L_Y">
    <inertial>
      <origin xyz="0.0 0.0 0.0" rpy="0.0 -0.0 0.0"/>
      <mass value="1.0"/>
      <inertia ixx="0.0" ixy="0.0" ixz="0.0" iyy="0.0" iyz="0.0" izz="0.0"/>
    </inertial>
    <visual>
      <geometry>
        <box size="0.05 0.05  0.05 "/>
      </geometry>
      <origin xyz="0.0 0.061314322426915174 0.0" rpy="0.0 0.0 0.0"/>
    </visual>
    <collision>
      <geometry>
        <box size="0.05 0.05  0.05 "/>
      </geometry>
      <origin xyz="0.0 0.061314322426915174 0.0" rpy="0.0 0.0 0.0"/>
    </collision>
  </link>
  <link name="link_167_Oberschenkel_R_R">
    <inertial>
      <origin xyz="0.0 0.0 0.0" rpy="0.0 -0.0 0.0"/>
      <mass value="1.0"/>
      <inertia ixx="0.0" ixy="0.0" ixz="0.0" iyy="0.0" iyz="0.0" izz="0.0"/>
    </inertial>
    <collision name="collision">
      <geometry>
        <sphere radius="0.05"/>
      </geometry>
      <origin xyz="0.0 0.0 0.0" rpy="0.0 -0.0 0.0"/>
    </collision>
  </link>
  <link name="link_167_Oberschenkel_R_P">
    <inertial>
      <origin xyz="0.0 0.0 0.0" rpy="0.0 -0.0 0.0"/>
      <mass value="1.0"/>
      <inertia ixx="0.0" ixy="0.0" ixz="0.0" iyy="0.0" iyz="0.0" izz="0.0"/>
    </inertial>
    <collision name="collision">
      <geometry>
        <sphere radius="0.05"/>
      </geometry>
      <origin xyz="0.0 0.0 0.0" rpy="0.0 -0.0 0.0"/>
    </collision>
  </link>
  <link name="link_167_Oberschenkel_R_Y">
    <inertial>
      <origin xyz="0.0 0.0 0.0" rpy="0.0 -0.0 0.0"/>
      <mass value="1.0"/>
      <inertia ixx="0.0" ixy="0.0" ixz="0.0" iyy="0.0" iyz="0.0" izz="0.0"/>
    </inertial>
    <visual>
      <geometry>
        <box size="0.1       0.3878836 0.1      "/>
      </geometry>
      <origin xyz="0.0 0.22767080292105674 0.0" rpy="0.0 0.0 0.0"/>
    </visual>
    <collision>
      <geometry>
        <box size="0.1       0.3878836 0.1      "/>
      </geometry>
      <origin xyz="0.0 0.22767080292105674 0.0" rpy="0.0 0.0 0.0"/>
    </collision>
  </link>
  <link name="link_168_Unterschenkel_R_R">
    <inertial>
      <origin xyz="0.0 0.0 0.0" rpy="0.0 -0.0 0.0"/>
      <mass value="1.0"/>
      <inertia ixx="0.0" ixy="0.0" ixz="0.0" iyy="0.0" iyz="0.0" izz="0.0"/>
    </inertial>
    <collision name="collision">
      <geometry>
        <sphere radius="0.05"/>
      </geometry>
      <origin xyz="0.0 0.0 0.0" rpy="0.0 -0.0 0.0"/>
    </collision>
  </link>
  <link name="link_168_Unterschenkel_R_P">
    <inertial>
      <origin xyz="0.0 0.0 0.0" rpy="0.0 -0.0 0.0"/>
      <mass value="1.0"/>
      <inertia ixx="0.0" ixy="0.0" ixz="0.0" iyy="0.0" iyz="0.0" izz="0.0"/>
    </inertial>
    <collision name="collision">
      <geometry>
        <sphere radius="0.05"/>
      </geometry>
      <origin xyz="0.0 0.0 0.0" rpy="0.0 -0.0 0.0"/>
    </collision>
  </link>
  <link name="link_168_Unterschenkel_R_Y">
    <inertial>
      <origin xyz="0.0 0.0 0.0" rpy="0.0 -0.0 0.0"/>
      <mass value="1.0"/>
      <inertia ixx="0.0" ixy="0.0" ixz="0.0" iyy="0.0" iyz="0.0" izz="0.0"/>
    </inertial>
    <visual>
      <geometry>
        <box size="0.02       0.2739076 0.02      "/>
      </geometry>
      <origin xyz="0.0 0.1607719000428915 0.0" rpy="0.0 0.0 0.0"/>
    </visual>
    <collision>
      <geometry>
        <box size="0.02       0.2739076 0.02      "/>
      </geometry>
      <origin xyz="0.0 0.1607719000428915 0.0" rpy="0.0 0.0 0.0"/>
    </collision>
  </link>
  <link name="link_169_Pfote1_R_R">
    <inertial>
      <origin xyz="0.0 0.0 0.0" rpy="0.0 -0.0 0.0"/>
      <mass value="1.0"/>
      <inertia ixx="0.0" ixy="0.0" ixz="0.0" iyy="0.0" iyz="0.0" izz="0.0"/>
    </inertial>
    <collision name="collision">
      <geometry>
        <sphere radius="0.05"/>
      </geometry>
      <origin xyz="0.0 0.0 0.0" rpy="0.0 -0.0 0.0"/>
    </collision>
  </link>
  <link name="link_169_Pfote1_R_P">
    <inertial>
      <origin xyz="0.0 0.0 0.0" rpy="0.0 -0.0 0.0"/>
      <mass value="1.0"/>
      <inertia ixx="0.0" ixy="0.0" ixz="0.0" iyy="0.0" iyz="0.0" izz="0.0"/>
    </inertial>
    <collision name="collision">
      <geometry>
        <sphere radius="0.05"/>
      </geometry>
      <origin xyz="0.0 0.0 0.0" rpy="0.0 -0.0 0.0"/>
    </collision>
  </link>
  <link name="link_169_Pfote1_R_Y">
    <inertial>
      <origin xyz="0.0 0.0 0.0" rpy="0.0 -0.0 0.0"/>
      <mass value="1.0"/>
      <inertia ixx="0.0" ixy="0.0" ixz="0.0" iyy="0.0" iyz="0.0" izz="0.0"/>
    </inertial>
    <visual>
      <geometry>
        <box size="0.02   0.125 0.02  "/>
      </geometry>
      <origin xyz="0.0 0.13332938142120837 0.0" rpy="0.0 0.0 0.0"/>
    </visual>
    <collision>
      <geometry>
        <box size="0.02   0.125 0.02  "/>
      </geometry>
      <origin xyz="0.0 0.13332938142120837 0.0" rpy="0.0 0.0 0.0"/>
    </collision>
  </link>
  <link name="link_170_Pfote2_R_R">
    <inertial>
      <origin xyz="0.0 0.0 0.0" rpy="0.0 -0.0 0.0"/>
      <mass value="1.0"/>
      <inertia ixx="0.0" ixy="0.0" ixz="0.0" iyy="0.0" iyz="0.0" izz="0.0"/>
    </inertial>
    <collision name="collision">
      <geometry>
        <sphere radius="0.05"/>
      </geometry>
      <origin xyz="0.0 0.0 0.0" rpy="0.0 -0.0 0.0"/>
    </collision>
  </link>
  <link name="link_170_Pfote2_R_P">
    <inertial>
      <origin xyz="0.0 0.0 0.0" rpy="0.0 -0.0 0.0"/>
      <mass value="1.0"/>
      <inertia ixx="0.0" ixy="0.0" ixz="0.0" iyy="0.0" iyz="0.0" izz="0.0"/>
    </inertial>
    <collision name="collision">
      <geometry>
        <sphere radius="0.05"/>
      </geometry>
      <origin xyz="0.0 0.0 0.0" rpy="0.0 -0.0 0.0"/>
    </collision>
  </link>
  <link name="link_170_Pfote2_R_Y">
    <inertial>
      <origin xyz="0.0 0.0 0.0" rpy="0.0 -0.0 0.0"/>
      <mass value="1.0"/>
      <inertia ixx="0.0" ixy="0.0" ixz="0.0" iyy="0.0" iyz="0.0" izz="0.0"/>
    </inertial>
    <visual>
      <geometry>
        <box size="0.05 0.05  0.05 "/>
      </geometry>
      <origin xyz="0.0 0.061314236931502814 0.0" rpy="0.0 0.0 0.0"/>
    </visual>
    <collision>
      <geometry>
        <box size="0.05 0.05  0.05 "/>
      </geometry>
      <origin xyz="0.0 0.061314236931502814 0.0" rpy="0.0 0.0 0.0"/>
    </collision>
  </link>
  <joint name="joint_136_Bauch_R" type="revolute">
    <limit effort="100.0" velocity="3.0" lower="-1.5707963267948966" upper="1.5707963267948966"/>
    <parent link="base_link"/>
    <child link="link_136_Bauch_R"/>
    <axis xyz="1. 0. 0."/>
    <origin xyz="-0.0 0.235105 -0.08897749999999999" rpy="-0.220005 -0.0 0.0"/>
  </joint>
  <joint name="joint_136_Bauch_P" type="revolute">
    <limit effort="100.0" velocity="3.0" lower="-1.5707963267948966" upper="1.5707963267948966"/>
    <parent link="link_136_Bauch_R"/>
    <child link="link_136_Bauch_P"/>
    <axis xyz="0. 1. 0."/>
    <origin xyz="0.0 0.0 0.0" rpy="0.0 0.0 0.0"/>
  </joint>
  <joint name="joint_136_Bauch_Y" type="revolute">
    <limit effort="100.0" velocity="3.0" lower="-1.5707963267948966" upper="1.5707963267948966"/>
    <parent link="link_136_Bauch_P"/>
    <child link="link_136_Bauch_Y"/>
    <axis xyz="0. 0. 1."/>
    <origin xyz="0.0 0.0 0.0" rpy="0.0 0.0 0.0"/>
  </joint>
  <joint name="joint_137_Bauch.001_R" type="revolute">
    <limit effort="100.0" velocity="3.0" lower="-1.5707963267948966" upper="1.5707963267948966"/>
    <parent link="link_136_Bauch_Y"/>
    <child link="link_137_Bauch.001_R"/>
    <axis xyz="1. 0. 0."/>
    <origin xyz="0.0 0.27047499999999997 -0.0" rpy="-0.04118 0.0 0.0"/>
  </joint>
  <joint name="joint_137_Bauch.001_P" type="revolute">
    <limit effort="100.0" velocity="3.0" lower="-1.5707963267948966" upper="1.5707963267948966"/>
    <parent link="link_137_Bauch.001_R"/>
    <child link="link_137_Bauch.001_P"/>
    <axis xyz="0. 1. 0."/>
    <origin xyz="0.0 0.0 0.0" rpy="0.0 0.0 0.0"/>
  </joint>
  <joint name="joint_137_Bauch.001_Y" type="revolute">
    <limit effort="100.0" velocity="3.0" lower="-1.5707963267948966" upper="1.5707963267948966"/>
    <parent link="link_137_Bauch.001_P"/>
    <child link="link_137_Bauch.001_Y"/>
    <axis xyz="0. 0. 1."/>
    <origin xyz="0.0 0.0 0.0" rpy="0.0 0.0 0.0"/>
  </joint>
  <joint name="joint_138_Brust_R" type="revolute">
    <limit effort="100.0" velocity="3.0" lower="-1.5707963267948966" upper="1.5707963267948966"/>
    <parent link="link_137_Bauch.001_Y"/>
    <child link="link_138_Brust_R"/>
    <axis xyz="1. 0. 0."/>
    <origin xyz="-0.0 0.2674575 0.0" rpy="0.0 0.0 0.0"/>
  </joint>
  <joint name="joint_138_Brust_P" type="revolute">
    <limit effort="100.0" velocity="3.0" lower="-1.5707963267948966" upper="1.5707963267948966"/>
    <parent link="link_138_Brust_R"/>
    <child link="link_138_Brust_P"/>
    <axis xyz="0. 1. 0."/>
    <origin xyz="0.0 0.0 0.0" rpy="0.0 0.0 0.0"/>
  </joint>
  <joint name="joint_138_Brust_Y" type="revolute">
    <limit effort="100.0" velocity="3.0" lower="-1.5707963267948966" upper="1.5707963267948966"/>
    <parent link="link_138_Brust_P"/>
    <child link="link_138_Brust_Y"/>
    <axis xyz="0. 0. 1."/>
    <origin xyz="0.0 0.0 0.0" rpy="0.0 0.0 0.0"/>
  </joint>
  <joint name="joint_139_Hals_R" type="revolute">
    <limit effort="100.0" velocity="3.0" lower="-1.5707963267948966" upper="1.5707963267948966"/>
    <parent link="link_138_Brust_Y"/>
    <child link="link_139_Hals_R"/>
    <axis xyz="1. 0. 0."/>
    <origin xyz="0.0 0.314505 0.15199000000000001" rpy="-0.818163 -0.0 -0.0"/>
  </joint>
  <joint name="joint_139_Hals_P" type="revolute">
    <limit effort="100.0" velocity="3.0" lower="-1.5707963267948966" upper="1.5707963267948966"/>
    <parent link="link_139_Hals_R"/>
    <child link="link_139_Hals_P"/>
    <axis xyz="0. 1. 0."/>
    <origin xyz="0.0 0.0 0.0" rpy="0.0 0.0 0.0"/>
  </joint>
  <joint name="joint_139_Hals_Y" type="revolute">
    <limit effort="100.0" velocity="3.0" lower="-1.5707963267948966" upper="1.5707963267948966"/>
    <parent link="link_139_Hals_P"/>
    <child link="link_139_Hals_Y"/>
    <axis xyz="0. 0. 1."/>
    <origin xyz="0.0 0.0 0.0" rpy="0.0 0.0 0.0"/>
  </joint>
  <joint name="joint_147_Schalterplatte_L_R" type="revolute">
    <limit effort="100.0" velocity="3.0" lower="-1.5707963267948966" upper="1.5707963267948966"/>
    <parent link="link_138_Brust_Y"/>
    <child link="link_147_Schalterplatte_L_R"/>
    <axis xyz="1. 0. 0."/>
    <origin xyz="0.09552 0.22314250000000002 0.0" rpy="1.0 0.5 0.19999999999999998"/>
  </joint>
  <joint name="joint_147_Schalterplatte_L_P" type="revolute">
    <limit effort="100.0" velocity="3.0" lower="-1.5707963267948966" upper="1.5707963267948966"/>
    <parent link="link_147_Schalterplatte_L_R"/>
    <child link="link_147_Schalterplatte_L_P"/>
    <axis xyz="0. 1. 0."/>
    <origin xyz="0.0 0.0 0.0" rpy="0.0 0.0 0.0"/>
  </joint>
  <joint name="joint_147_Schalterplatte_L_Y" type="revolute">
    <limit effort="100.0" velocity="3.0" lower="-1.5707963267948966" upper="1.5707963267948966"/>
    <parent link="link_147_Schalterplatte_L_P"/>
    <child link="link_147_Schalterplatte_L_Y"/>
    <axis xyz="0. 0. 1."/>
    <origin xyz="0.0 0.0 0.0" rpy="0.0 0.0 0.0"/>
  </joint>
  <joint name="joint_148_Oberarm_L_R" type="revolute">
    <limit effort="100.0" velocity="3.0" lower="-1.5707963267948966" upper="1.5707963267948966"/>
    <parent link="link_147_Schalterplatte_L_Y"/>
    <child link="link_148_Oberarm_L_R"/>
    <axis xyz="1. 0. 0."/>
    <origin xyz="-0.0 0.35466 0.0" rpy="1.1562 -0.429107 0.2271"/>
  </joint>
  <joint name="joint_148_Oberarm_L_P" type="revolute">
    <limit effort="100.0" velocity="3.0" lower="-1.5707963267948966" upper="1.5707963267948966"/>
    <parent link="link_148_Oberarm_L_R"/>
    <child link="link_148_Oberarm_L_P"/>
    <axis xyz="0. 1. 0."/>
    <origin xyz="0.0 0.0 0.0" rpy="0.0 0.0 0.0"/>
  </joint>
  <joint name="joint_148_Oberarm_L_Y" type="revolute">
    <limit effort="100.0" velocity="3.0" lower="-1.5707963267948966" upper="1.5707963267948966"/>
    <parent link="link_148_Oberarm_L_P"/>
    <child link="link_148_Oberarm_L_Y"/>
    <axis xyz="0. 0. 1."/>
    <origin xyz="0.0 0.0 0.0" rpy="0.0 0.0 0.0"/>
  </joint>
  <joint name="joint_149_Unterarm_L_R" type="revolute">
    <limit effort="100.0" velocity="3.0" lower="-1.5707963267948966" upper="1.5707963267948966"/>
    <parent link="link_148_Oberarm_L_Y"/>
    <child link="link_149_Unterarm_L_R"/>
    <axis xyz="1. 0. 0."/>
    <origin xyz="-0.0 0.5070575 -0.0" rpy="-0.680181 -0.004629 -0.007738"/>
  </joint>
  <joint name="joint_149_Unterarm_L_P" type="revolute">
    <limit effort="100.0" velocity="3.0" lower="-1.5707963267948966" upper="1.5707963267948966"/>
    <parent link="link_149_Unterarm_L_R"/>
    <child link="link_149_Unterarm_L_P"/>
    <axis xyz="0. 1. 0."/>
    <origin xyz="0.0 0.0 0.0" rpy="0.0 0.0 0.0"/>
  </joint>
  <joint name="joint_149_Unterarm_L_Y" type="revolute">
    <limit effort="100.0" velocity="3.0" lower="-1.5707963267948966" upper="1.5707963267948966"/>
    <parent link="link_149_Unterarm_L_P"/>
    <child link="link_149_Unterarm_L_Y"/>
    <axis xyz="0. 0. 1."/>
    <origin xyz="0.0 0.0 0.0" rpy="0.0 0.0 0.0"/>
  </joint>
  <joint name="joint_150_Vorderpfote_L_R" type="revolute">
    <limit effort="100.0" velocity="3.0" lower="-1.5707963267948966" upper="1.5707963267948966"/>
    <parent link="link_149_Unterarm_L_Y"/>
    <child link="link_150_Vorderpfote_L_R"/>
    <axis xyz="1. 0. 0."/>
    <origin xyz="-0.0 0.4264875 0.0" rpy="-1.399388 -0.018149 0.015267"/>
  </joint>
  <joint name="joint_150_Vorderpfote_L_P" type="revolute">
    <limit effort="100.0" velocity="3.0" lower="-1.5707963267948966" upper="1.5707963267948966"/>
    <parent link="link_150_Vorderpfote_L_R"/>
    <child link="link_150_Vorderpfote_L_P"/>
    <axis xyz="0. 1. 0."/>
    <origin xyz="0.0 0.0 0.0" rpy="0.0 0.0 0.0"/>
  </joint>
  <joint name="joint_150_Vorderpfote_L_Y" type="revolute">
    <limit effort="100.0" velocity="3.0" lower="-1.5707963267948966" upper="1.5707963267948966"/>
    <parent link="link_150_Vorderpfote_L_P"/>
    <child link="link_150_Vorderpfote_L_Y"/>
    <axis xyz="0. 0. 1."/>
    <origin xyz="0.0 0.0 0.0" rpy="0.0 0.0 0.0"/>
  </joint>
  <joint name="joint_152_Schalterplatte_R_R" type="revolute">
    <limit effort="100.0" velocity="3.0" lower="-1.5707963267948966" upper="1.5707963267948966"/>
    <parent link="link_138_Brust_Y"/>
    <child link="link_152_Schalterplatte_R_R"/>
    <axis xyz="1. 0. 0."/>
    <origin xyz="-0.09552 0.22314250000000002 0.0" rpy="1.0 -0.5 -0.19999999999999998"/>
  </joint>
  <joint name="joint_152_Schalterplatte_R_P" type="revolute">
    <limit effort="100.0" velocity="3.0" lower="-1.5707963267948966" upper="1.5707963267948966"/>
    <parent link="link_152_Schalterplatte_R_R"/>
    <child link="link_152_Schalterplatte_R_P"/>
    <axis xyz="0. 1. 0."/>
    <origin xyz="0.0 0.0 0.0" rpy="0.0 0.0 0.0"/>
  </joint>
  <joint name="joint_152_Schalterplatte_R_Y" type="revolute">
    <limit effort="100.0" velocity="3.0" lower="-1.5707963267948966" upper="1.5707963267948966"/>
    <parent link="link_152_Schalterplatte_R_P"/>
    <child link="link_152_Schalterplatte_R_Y"/>
    <axis xyz="0. 0. 1."/>
    <origin xyz="0.0 0.0 0.0" rpy="0.0 0.0 0.0"/>
  </joint>
  <joint name="joint_153_Oberarm_R_R" type="revolute">
    <limit effort="100.0" velocity="3.0" lower="-1.5707963267948966" upper="1.5707963267948966"/>
    <parent link="link_152_Schalterplatte_R_Y"/>
    <child link="link_153_Oberarm_R_R"/>
    <axis xyz="1. 0. 0."/>
    <origin xyz="-0.0 0.35465749999999996 0.0" rpy="1.1562 0.429107 -0.227099"/>
  </joint>
  <joint name="joint_153_Oberarm_R_P" type="revolute">
    <limit effort="100.0" velocity="3.0" lower="-1.5707963267948966" upper="1.5707963267948966"/>
    <parent link="link_153_Oberarm_R_R"/>
    <child link="link_153_Oberarm_R_P"/>
    <axis xyz="0. 1. 0."/>
    <origin xyz="0.0 0.0 0.0" rpy="0.0 0.0 0.0"/>
  </joint>
  <joint name="joint_153_Oberarm_R_Y" type="revolute">
    <limit effort="100.0" velocity="3.0" lower="-1.5707963267948966" upper="1.5707963267948966"/>
    <parent link="link_153_Oberarm_R_P"/>
    <child link="link_153_Oberarm_R_Y"/>
    <axis xyz="0. 0. 1."/>
    <origin xyz="0.0 0.0 0.0" rpy="0.0 0.0 0.0"/>
  </joint>
  <joint name="joint_154_Unterarm_R_R" type="revolute">
    <limit effort="100.0" velocity="3.0" lower="-1.5707963267948966" upper="1.5707963267948966"/>
    <parent link="link_153_Oberarm_R_Y"/>
    <child link="link_154_Unterarm_R_R"/>
    <axis xyz="1. 0. 0."/>
    <origin xyz="-0.0 0.5070575 0.0" rpy="-0.680182 0.004629 0.007738"/>
  </joint>
  <joint name="joint_154_Unterarm_R_P" type="revolute">
    <limit effort="100.0" velocity="3.0" lower="-1.5707963267948966" upper="1.5707963267948966"/>
    <parent link="link_154_Unterarm_R_R"/>
    <child link="link_154_Unterarm_R_P"/>
    <axis xyz="0. 1. 0."/>
    <origin xyz="0.0 0.0 0.0" rpy="0.0 0.0 0.0"/>
  </joint>
  <joint name="joint_154_Unterarm_R_Y" type="revolute">
    <limit effort="100.0" velocity="3.0" lower="-1.5707963267948966" upper="1.5707963267948966"/>
    <parent link="link_154_Unterarm_R_P"/>
    <child link="link_154_Unterarm_R_Y"/>
    <axis xyz="0. 0. 1."/>
    <origin xyz="0.0 0.0 0.0" rpy="0.0 0.0 0.0"/>
  </joint>
  <joint name="joint_155_Vorderpfote_R_R" type="revolute">
    <limit effort="100.0" velocity="3.0" lower="-1.5707963267948966" upper="1.5707963267948966"/>
    <parent link="link_154_Unterarm_R_Y"/>
    <child link="link_155_Vorderpfote_R_R"/>
    <axis xyz="1. 0. 0."/>
    <origin xyz="-0.0 0.426485 -0.0" rpy="-1.401087 0.030231 -0.085539"/>
  </joint>
  <joint name="joint_155_Vorderpfote_R_P" type="revolute">
    <limit effort="100.0" velocity="3.0" lower="-1.5707963267948966" upper="1.5707963267948966"/>
    <parent link="link_155_Vorderpfote_R_R"/>
    <child link="link_155_Vorderpfote_R_P"/>
    <axis xyz="0. 1. 0."/>
    <origin xyz="0.0 0.0 0.0" rpy="0.0 0.0 0.0"/>
  </joint>
  <joint name="joint_155_Vorderpfote_R_Y" type="revolute">
    <limit effort="100.0" velocity="3.0" lower="-1.5707963267948966" upper="1.5707963267948966"/>
    <parent link="link_155_Vorderpfote_R_P"/>
    <child link="link_155_Vorderpfote_R_Y"/>
    <axis xyz="0. 0. 1."/>
    <origin xyz="0.0 0.0 0.0" rpy="0.0 0.0 0.0"/>
  </joint>
  <joint name="joint_157_Schwanz_R" type="revolute">
    <limit effort="100.0" velocity="3.0" lower="-1.5707963267948966" upper="1.5707963267948966"/>
    <parent link="base_link"/>
    <child link="link_157_Schwanz_R"/>
    <axis xyz="1. 0. 0."/>
    <origin xyz="-0.0 -0.006987500000000001 0.0313175" rpy="2.596973 -0.0 -0.0"/>
  </joint>
  <joint name="joint_157_Schwanz_P" type="revolute">
    <limit effort="100.0" velocity="3.0" lower="-1.5707963267948966" upper="1.5707963267948966"/>
    <parent link="link_157_Schwanz_R"/>
    <child link="link_157_Schwanz_P"/>
    <axis xyz="0. 1. 0."/>
    <origin xyz="0.0 0.0 0.0" rpy="0.0 0.0 0.0"/>
  </joint>
  <joint name="joint_157_Schwanz_Y" type="revolute">
    <limit effort="100.0" velocity="3.0" lower="-1.5707963267948966" upper="1.5707963267948966"/>
    <parent link="link_157_Schwanz_P"/>
    <child link="link_157_Schwanz_Y"/>
    <axis xyz="0. 0. 1."/>
    <origin xyz="0.0 0.0 0.0" rpy="0.0 0.0 0.0"/>
  </joint>
  <joint name="joint_158_Schwanz.001_R" type="revolute">
    <limit effort="100.0" velocity="3.0" lower="-1.5707963267948966" upper="1.5707963267948966"/>
    <parent link="link_157_Schwanz_Y"/>
    <child link="link_158_Schwanz.001_R"/>
    <axis xyz="1. 0. 0."/>
    <origin xyz="-0.0 0.2276075 0.0" rpy="0.132384 -0.0 -0.0"/>
  </joint>
  <joint name="joint_158_Schwanz.001_P" type="revolute">
    <limit effort="100.0" velocity="3.0" lower="-1.5707963267948966" upper="1.5707963267948966"/>
    <parent link="link_158_Schwanz.001_R"/>
    <child link="link_158_Schwanz.001_P"/>
    <axis xyz="0. 1. 0."/>
    <origin xyz="0.0 0.0 0.0" rpy="0.0 0.0 0.0"/>
  </joint>
  <joint name="joint_158_Schwanz.001_Y" type="revolute">
    <limit effort="100.0" velocity="3.0" lower="-1.5707963267948966" upper="1.5707963267948966"/>
    <parent link="link_158_Schwanz.001_P"/>
    <child link="link_158_Schwanz.001_Y"/>
    <axis xyz="0. 0. 1."/>
    <origin xyz="0.0 0.0 0.0" rpy="0.0 0.0 0.0"/>
  </joint>
  <joint name="joint_159_Schwanz.002_R" type="revolute">
    <limit effort="100.0" velocity="3.0" lower="-1.5707963267948966" upper="1.5707963267948966"/>
    <parent link="link_158_Schwanz.001_Y"/>
    <child link="link_159_Schwanz.002_R"/>
    <axis xyz="1. 0. 0."/>
    <origin xyz="0.0 0.1963925 0.0" rpy="0.24113399999999993 0.0 -0.0"/>
  </joint>
  <joint name="joint_159_Schwanz.002_P" type="revolute">
    <limit effort="100.0" velocity="3.0" lower="-1.5707963267948966" upper="1.5707963267948966"/>
    <parent link="link_159_Schwanz.002_R"/>
    <child link="link_159_Schwanz.002_P"/>
    <axis xyz="0. 1. 0."/>
    <origin xyz="0.0 0.0 0.0" rpy="0.0 0.0 0.0"/>
  </joint>
  <joint name="joint_159_Schwanz.002_Y" type="revolute">
    <limit effort="100.0" velocity="3.0" lower="-1.5707963267948966" upper="1.5707963267948966"/>
    <parent link="link_159_Schwanz.002_P"/>
    <child link="link_159_Schwanz.002_Y"/>
    <axis xyz="0. 0. 1."/>
    <origin xyz="0.0 0.0 0.0" rpy="0.0 0.0 0.0"/>
  </joint>
  <joint name="joint_160_Schwanz.003_R" type="revolute">
    <limit effort="100.0" velocity="3.0" lower="-1.5707963267948966" upper="1.5707963267948966"/>
    <parent link="link_159_Schwanz.002_Y"/>
    <child link="link_160_Schwanz.003_R"/>
    <axis xyz="1. 0. 0."/>
    <origin xyz="-0.0 0.20875749999999998 -0.0" rpy="0.202521 0.0 0.0"/>
  </joint>
  <joint name="joint_160_Schwanz.003_P" type="revolute">
    <limit effort="100.0" velocity="3.0" lower="-1.5707963267948966" upper="1.5707963267948966"/>
    <parent link="link_160_Schwanz.003_R"/>
    <child link="link_160_Schwanz.003_P"/>
    <axis xyz="0. 1. 0."/>
    <origin xyz="0.0 0.0 0.0" rpy="0.0 0.0 0.0"/>
  </joint>
  <joint name="joint_160_Schwanz.003_Y" type="revolute">
    <limit effort="100.0" velocity="3.0" lower="-1.5707963267948966" upper="1.5707963267948966"/>
    <parent link="link_160_Schwanz.003_P"/>
    <child link="link_160_Schwanz.003_Y"/>
    <axis xyz="0. 0. 1."/>
    <origin xyz="0.0 0.0 0.0" rpy="0.0 0.0 0.0"/>
  </joint>
  <joint name="joint_161_Schwanz.003_end_R" type="revolute">
    <limit effort="100.0" velocity="3.0" lower="-1.5707963267948966" upper="1.5707963267948966"/>
    <parent link="link_160_Schwanz.003_Y"/>
    <child link="link_161_Schwanz.003_end_R"/>
    <axis xyz="1. 0. 0."/>
    <origin xyz="0.0 0.2056075 -0.0" rpy="0.0 -0.0 0.0"/>
  </joint>
  <joint name="joint_161_Schwanz.003_end_P" type="revolute">
    <limit effort="100.0" velocity="3.0" lower="-1.5707963267948966" upper="1.5707963267948966"/>
    <parent link="link_161_Schwanz.003_end_R"/>
    <child link="link_161_Schwanz.003_end_P"/>
    <axis xyz="0. 1. 0."/>
    <origin xyz="0.0 0.0 0.0" rpy="0.0 0.0 0.0"/>
  </joint>
  <joint name="joint_161_Schwanz.003_end_Y" type="revolute">
    <limit effort="100.0" velocity="3.0" lower="-1.5707963267948966" upper="1.5707963267948966"/>
    <parent link="link_161_Schwanz.003_end_P"/>
    <child link="link_161_Schwanz.003_end_Y"/>
    <axis xyz="0. 0. 1."/>
    <origin xyz="0.0 0.0 0.0" rpy="0.0 0.0 0.0"/>
  </joint>
  <joint name="joint_162_Oberschenkel_L_R" type="revolute">
    <limit effort="100.0" velocity="3.0" lower="-1.5707963267948966" upper="1.5707963267948966"/>
    <parent link="base_link"/>
    <child link="link_162_Oberschenkel_L_R"/>
    <axis xyz="1. 0. 0."/>
    <origin xyz="0.145925 0.13575 0.02883" rpy="1.31303 0.110237 0.069464"/>
  </joint>
  <joint name="joint_162_Oberschenkel_L_P" type="revolute">
    <limit effort="100.0" velocity="3.0" lower="-1.5707963267948966" upper="1.5707963267948966"/>
    <parent link="link_162_Oberschenkel_L_R"/>
    <child link="link_162_Oberschenkel_L_P"/>
    <axis xyz="0. 1. 0."/>
    <origin xyz="0.0 0.0 0.0" rpy="0.0 0.0 0.0"/>
  </joint>
  <joint name="joint_162_Oberschenkel_L_Y" type="revolute">
    <limit effort="100.0" velocity="3.0" lower="-1.5707963267948966" upper="1.5707963267948966"/>
    <parent link="link_162_Oberschenkel_L_P"/>
    <child link="link_162_Oberschenkel_L_Y"/>
    <axis xyz="0. 0. 1."/>
    <origin xyz="0.0 0.0 0.0" rpy="0.0 0.0 0.0"/>
  </joint>
  <joint name="joint_163_Unterschenkel_L_R" type="revolute">
    <limit effort="100.0" velocity="3.0" lower="-1.5707963267948966" upper="1.5707963267948966"/>
    <parent link="link_162_Oberschenkel_L_Y"/>
    <child link="link_163_Unterschenkel_L_R"/>
    <axis xyz="1. 0. 0."/>
    <origin xyz="0.0 0.42161 0.0" rpy="0.652041 -0.114489 0.09771499999999997"/>
  </joint>
  <joint name="joint_163_Unterschenkel_L_P" type="revolute">
    <limit effort="100.0" velocity="3.0" lower="-1.5707963267948966" upper="1.5707963267948966"/>
    <parent link="link_163_Unterschenkel_L_R"/>
    <child link="link_163_Unterschenkel_L_P"/>
    <axis xyz="0. 1. 0."/>
    <origin xyz="0.0 0.0 0.0" rpy="0.0 0.0 0.0"/>
  </joint>
  <joint name="joint_163_Unterschenkel_L_Y" type="revolute">
    <limit effort="100.0" velocity="3.0" lower="-1.5707963267948966" upper="1.5707963267948966"/>
    <parent link="link_163_Unterschenkel_L_P"/>
    <child link="link_163_Unterschenkel_L_Y"/>
    <axis xyz="0. 0. 1."/>
    <origin xyz="0.0 0.0 0.0" rpy="0.0 0.0 0.0"/>
  </joint>
  <joint name="joint_164_Pfote1_L_R" type="revolute">
    <limit effort="100.0" velocity="3.0" lower="-1.5707963267948966" upper="1.5707963267948966"/>
    <parent link="link_163_Unterschenkel_L_Y"/>
    <child link="link_164_Pfote1_L_R"/>
    <axis xyz="1. 0. 0."/>
    <origin xyz="-0.0 0.297725 0.0" rpy="-0.579425 0.032097 -0.125695"/>
  </joint>
  <joint name="joint_164_Pfote1_L_P" type="revolute">
    <limit effort="100.0" velocity="3.0" lower="-1.5707963267948966" upper="1.5707963267948966"/>
    <parent link="link_164_Pfote1_L_R"/>
    <child link="link_164_Pfote1_L_P"/>
    <axis xyz="0. 1. 0."/>
    <origin xyz="0.0 0.0 0.0" rpy="0.0 0.0 0.0"/>
  </joint>
  <joint name="joint_164_Pfote1_L_Y" type="revolute">
    <limit effort="100.0" velocity="3.0" lower="-1.5707963267948966" upper="1.5707963267948966"/>
    <parent link="link_164_Pfote1_L_P"/>
    <child link="link_164_Pfote1_L_Y"/>
    <axis xyz="0. 0. 1."/>
    <origin xyz="0.0 0.0 0.0" rpy="0.0 0.0 0.0"/>
  </joint>
  <joint name="joint_165_Pfote2_L_R" type="revolute">
    <limit effort="100.0" velocity="3.0" lower="-1.5707963267948966" upper="1.5707963267948966"/>
    <parent link="link_164_Pfote1_L_Y"/>
    <child link="link_165_Pfote2_L_R"/>
    <axis xyz="1. 0. 0."/>
    <origin xyz="-0.0 0.2469075 0.0" rpy="-1.581772 -0.076922 0.077736"/>
  </joint>
  <joint name="joint_165_Pfote2_L_P" type="revolute">
    <limit effort="100.0" velocity="3.0" lower="-1.5707963267948966" upper="1.5707963267948966"/>
    <parent link="link_165_Pfote2_L_R"/>
    <child link="link_165_Pfote2_L_P"/>
    <axis xyz="0. 1. 0."/>
    <origin xyz="0.0 0.0 0.0" rpy="0.0 0.0 0.0"/>
  </joint>
  <joint name="joint_165_Pfote2_L_Y" type="revolute">
    <limit effort="100.0" velocity="3.0" lower="-1.5707963267948966" upper="1.5707963267948966"/>
    <parent link="link_165_Pfote2_L_P"/>
    <child link="link_165_Pfote2_L_Y"/>
    <axis xyz="0. 0. 1."/>
    <origin xyz="0.0 0.0 0.0" rpy="0.0 0.0 0.0"/>
  </joint>
  <joint name="joint_167_Oberschenkel_R_R" type="revolute">
    <limit effort="100.0" velocity="3.0" lower="-1.5707963267948966" upper="1.5707963267948966"/>
    <parent link="base_link"/>
    <child link="link_167_Oberschenkel_R_R"/>
    <axis xyz="1. 0. 0."/>
    <origin xyz="-0.145925 0.13575 0.02883" rpy="1.31303 -0.110236 -0.069463"/>
  </joint>
  <joint name="joint_167_Oberschenkel_R_P" type="revolute">
    <limit effort="100.0" velocity="3.0" lower="-1.5707963267948966" upper="1.5707963267948966"/>
    <parent link="link_167_Oberschenkel_R_R"/>
    <child link="link_167_Oberschenkel_R_P"/>
    <axis xyz="0. 1. 0."/>
    <origin xyz="0.0 0.0 0.0" rpy="0.0 0.0 0.0"/>
  </joint>
  <joint name="joint_167_Oberschenkel_R_Y" type="revolute">
    <limit effort="100.0" velocity="3.0" lower="-1.5707963267948966" upper="1.5707963267948966"/>
    <parent link="link_167_Oberschenkel_R_P"/>
    <child link="link_167_Oberschenkel_R_Y"/>
    <axis xyz="0. 0. 1."/>
    <origin xyz="0.0 0.0 0.0" rpy="0.0 0.0 0.0"/>
  </joint>
  <joint name="joint_168_Unterschenkel_R_R" type="revolute">
    <limit effort="100.0" velocity="3.0" lower="-1.5707963267948966" upper="1.5707963267948966"/>
    <parent link="link_167_Oberschenkel_R_Y"/>
    <child link="link_168_Unterschenkel_R_R"/>
    <axis xyz="1. 0. 0."/>
    <origin xyz="0.0 0.42161249999999995 -0.0" rpy="0.652041 0.114489 -0.09771499999999997"/>
  </joint>
  <joint name="joint_168_Unterschenkel_R_P" type="revolute">
    <limit effort="100.0" velocity="3.0" lower="-1.5707963267948966" upper="1.5707963267948966"/>
    <parent link="link_168_Unterschenkel_R_R"/>
    <child link="link_168_Unterschenkel_R_P"/>
    <axis xyz="0. 1. 0."/>
    <origin xyz="0.0 0.0 0.0" rpy="0.0 0.0 0.0"/>
  </joint>
  <joint name="joint_168_Unterschenkel_R_Y" type="revolute">
    <limit effort="100.0" velocity="3.0" lower="-1.5707963267948966" upper="1.5707963267948966"/>
    <parent link="link_168_Unterschenkel_R_P"/>
    <child link="link_168_Unterschenkel_R_Y"/>
    <axis xyz="0. 0. 1."/>
    <origin xyz="0.0 0.0 0.0" rpy="0.0 0.0 0.0"/>
  </joint>
  <joint name="joint_169_Pfote1_R_R" type="revolute">
    <limit effort="100.0" velocity="3.0" lower="-1.5707963267948966" upper="1.5707963267948966"/>
    <parent link="link_168_Unterschenkel_R_Y"/>
    <child link="link_169_Pfote1_R_R"/>
    <axis xyz="1. 0. 0."/>
    <origin xyz="0.0 0.297725 0.0" rpy="-0.579415 -0.032098 0.12569400000000006"/>
  </joint>
  <joint name="joint_169_Pfote1_R_P" type="revolute">
    <limit effort="100.0" velocity="3.0" lower="-1.5707963267948966" upper="1.5707963267948966"/>
    <parent link="link_169_Pfote1_R_R"/>
    <child link="link_169_Pfote1_R_P"/>
    <axis xyz="0. 1. 0."/>
    <origin xyz="0.0 0.0 0.0" rpy="0.0 0.0 0.0"/>
  </joint>
  <joint name="joint_169_Pfote1_R_Y" type="revolute">
    <limit effort="100.0" velocity="3.0" lower="-1.5707963267948966" upper="1.5707963267948966"/>
    <parent link="link_169_Pfote1_R_P"/>
    <child link="link_169_Pfote1_R_Y"/>
    <axis xyz="0. 0. 1."/>
    <origin xyz="0.0 0.0 0.0" rpy="0.0 0.0 0.0"/>
  </joint>
  <joint name="joint_170_Pfote2_R_R" type="revolute">
    <limit effort="100.0" velocity="3.0" lower="-1.5707963267948966" upper="1.5707963267948966"/>
    <parent link="link_169_Pfote1_R_Y"/>
    <child link="link_170_Pfote2_R_R"/>
    <axis xyz="1. 0. 0."/>
    <origin xyz="0.0 0.246905 0.0" rpy="-1.581782 0.076922 -0.077736"/>
  </joint>
  <joint name="joint_170_Pfote2_R_P" type="revolute">
    <limit effort="100.0" velocity="3.0" lower="-1.5707963267948966" upper="1.5707963267948966"/>
    <parent link="link_170_Pfote2_R_R"/>
    <child link="link_170_Pfote2_R_P"/>
    <axis xyz="0. 1. 0."/>
    <origin xyz="0.0 0.0 0.0" rpy="0.0 0.0 0.0"/>
  </joint>
  <joint name="joint_170_Pfote2_R_Y" type="revolute">
    <limit effort="100.0" velocity="3.0" lower="-1.5707963267948966" upper="1.5707963267948966"/>
    <parent link="link_170_Pfote2_R_P"/>
    <child link="link_170_Pfote2_R_Y"/>
    <axis xyz="0. 0. 1."/>
    <origin xyz="0.0 0.0 0.0" rpy="0.0 0.0 0.0"/>
  </joint>
  <material name="mat_col_(0.8901960784313725, 0.10196078431372549, 0.10980392156862745)">
    <color rgba="0.89 0.1  0.11 1.  "/>
  </material>
  <material name="mat_col_(0.9921568627450981, 0.7490196078431373, 0.43529411764705883)">
    <color rgba="0.99 0.75 0.44 1.  "/>
  </material>
  <material name="mat_col_(0.6941176470588235, 0.34901960784313724, 0.1568627450980392)">
    <color rgba="0.69 0.35 0.16 1.  "/>
  </material>
  <material name="mat_col_(0.12156862745098039, 0.47058823529411764, 0.7058823529411765)">
    <color rgba="0.12 0.47 0.71 1.  "/>
  </material>
  <material name="mat_col_(1.0, 0.4980392156862745, 0.0)">
    <color rgba="1.  0.5 0.  1. "/>
  </material>
  <material name="mat_col_(0.2, 0.6274509803921569, 0.17254901960784313)">
    <color rgba="0.2  0.63 0.17 1.  "/>
  </material>
  <material name="mat_col_(0.984313725490196, 0.6039215686274509, 0.6)">
    <color rgba="0.98 0.6  0.6  1.  "/>
  </material>
  <material name="mat_col_(1.0, 1.0, 0.6)">
    <color rgba="1.  1.  0.6 1. "/>
  </material>
  <material name="mat_col_(0.6980392156862745, 0.8745098039215686, 0.5411764705882353)">
    <color rgba="0.7  0.87 0.54 1.  "/>
  </material>
  <material name="mat_col_(0.41568627450980394, 0.23921568627450981, 0.6039215686274509)">
    <color rgba="0.42 0.24 0.6  1.  "/>
  </material>
  <material name="mat_col_(0.6509803921568628, 0.807843137254902, 0.8901960784313725)">
    <color rgba="0.65 0.81 0.89 1.  "/>
  </material>
</robot>
